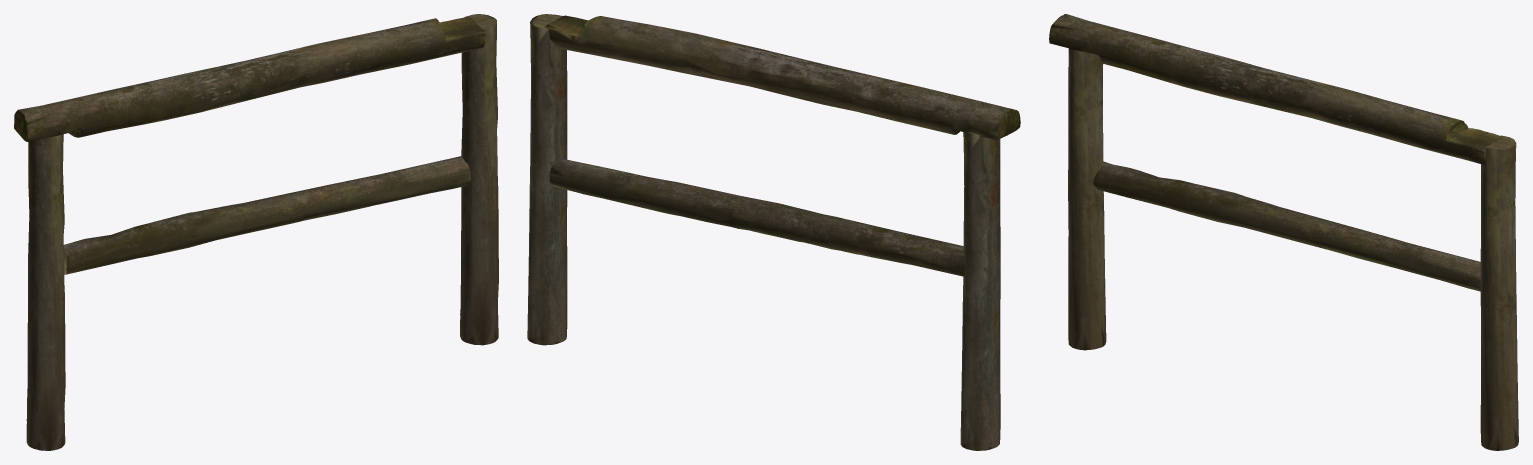
File: IntactFence.fbx
The picture shows the model from 3 angles, left to right: view 1: azimuth 30°, elevation 25°; view 2: azimuth 150°, elevation 25°; view 3: azimuth 330°, elevation 25°; orthographic projection. The views are drawn at different scales.
Visible parts, largest first — view 1: IntactFence; view 2: IntactFence; view 3: IntactFence.
Boxes of the visible parts, x1=… form: IntactFence: x1=14, y1=14, x2=498, y2=450; IntactFence: x1=527, y1=14, x2=1020, y2=450; IntactFence: x1=1049, y1=14, x2=1518, y2=450.
Size of the model in its own units: 179 by 121 by 15.17.
